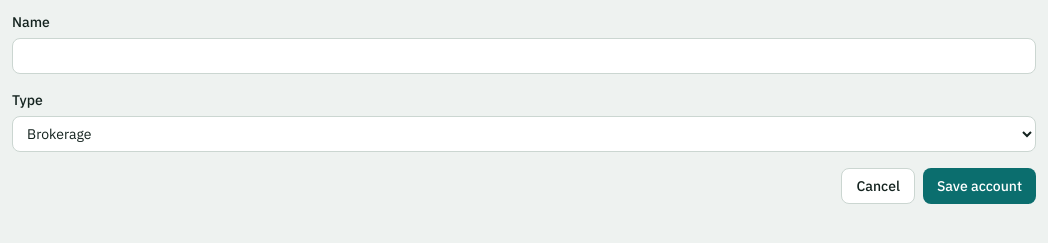
Test: AccountForm › requires a name
Click the button "Save account" at x=979, y=186, box [923,168,1036,204]
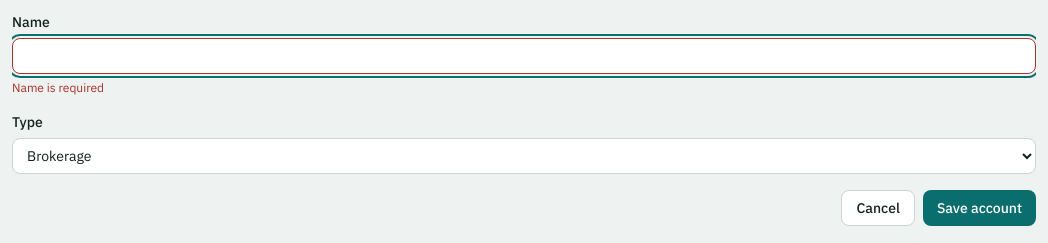
Now the text "Name is required" is shown, box [12,80,104,95]
